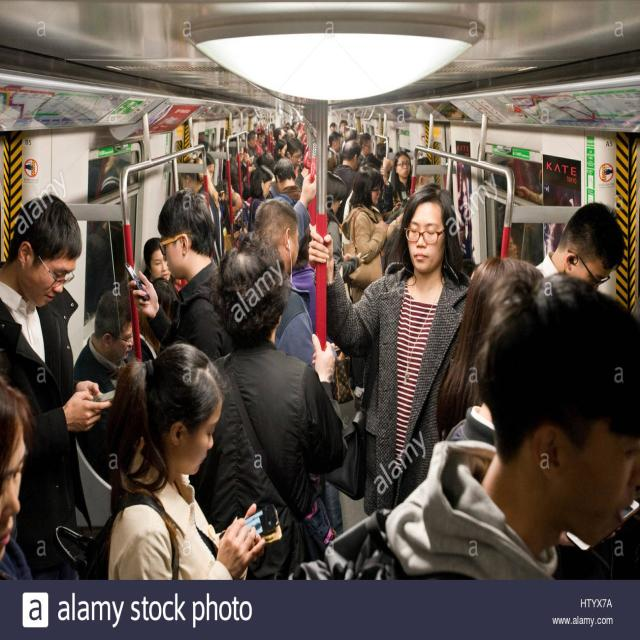body: (286, 271, 640, 580), (308, 182, 474, 517), (193, 241, 349, 581), (0, 194, 114, 581), (105, 342, 266, 580), (437, 258, 548, 453), (124, 188, 237, 363), (73, 289, 138, 491), (254, 198, 317, 380), (528, 198, 626, 294), (483, 157, 575, 259), (0, 369, 35, 582), (325, 170, 366, 284), (215, 155, 272, 235), (223, 118, 318, 156), (359, 136, 394, 216), (381, 149, 412, 224), (139, 236, 173, 289), (456, 161, 474, 261), (248, 165, 274, 232), (333, 139, 362, 197), (284, 136, 309, 191), (273, 157, 302, 203), (229, 142, 251, 194), (353, 132, 372, 172), (327, 130, 344, 172), (327, 118, 359, 140), (198, 151, 216, 180)
